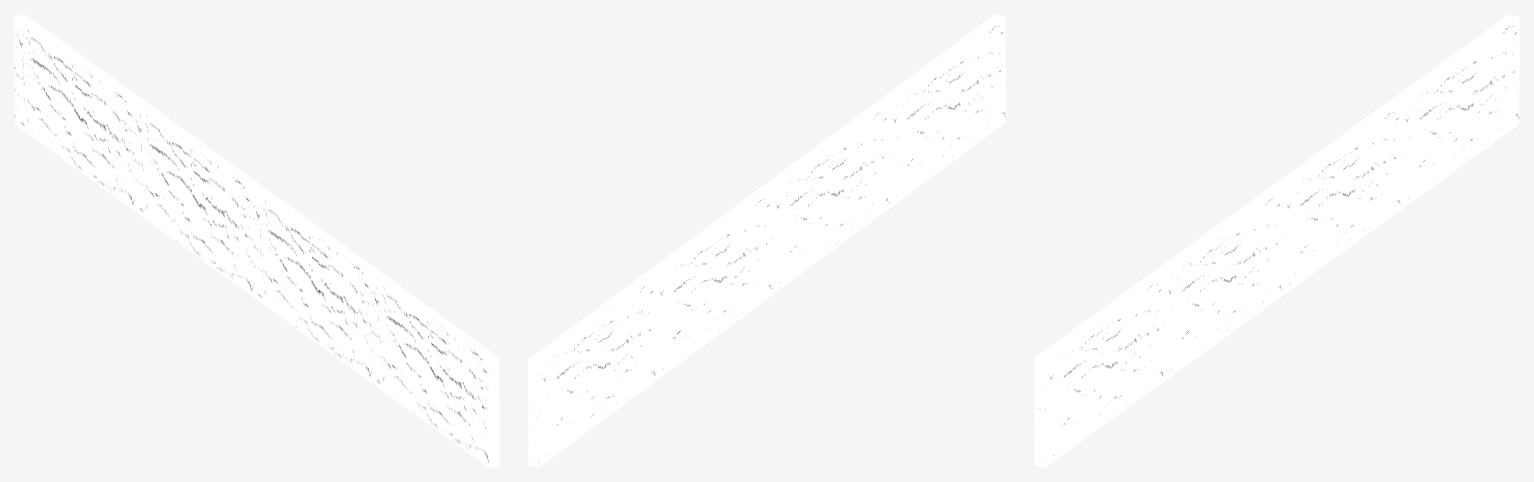
Rendered from wall beam.FBX.
3 renders of one model, left to right at view 1: azimuth 30°, elevation 25°; view 2: azimuth 150°, elevation 25°; view 3: azimuth 330°, elevation 25°, orthographic.
Parts seen in each view (by area): view 1: Box274; view 2: Box274; view 3: Box274.
Part boxes in pixels (left/top/right/bottom): Box274: left=14, top=14, right=499, bottom=467; Box274: left=528, top=14, right=1005, bottom=467; Box274: left=1034, top=14, right=1519, bottom=467.
Size of the model in its own units: 2.87 by 28.45 by 220.
1 material, 1 textured.
